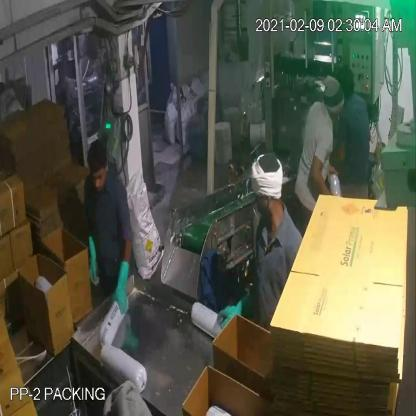glove: (217, 288, 265, 337), (110, 250, 134, 320), (80, 231, 102, 295)
no_glove: (308, 150, 344, 204)
